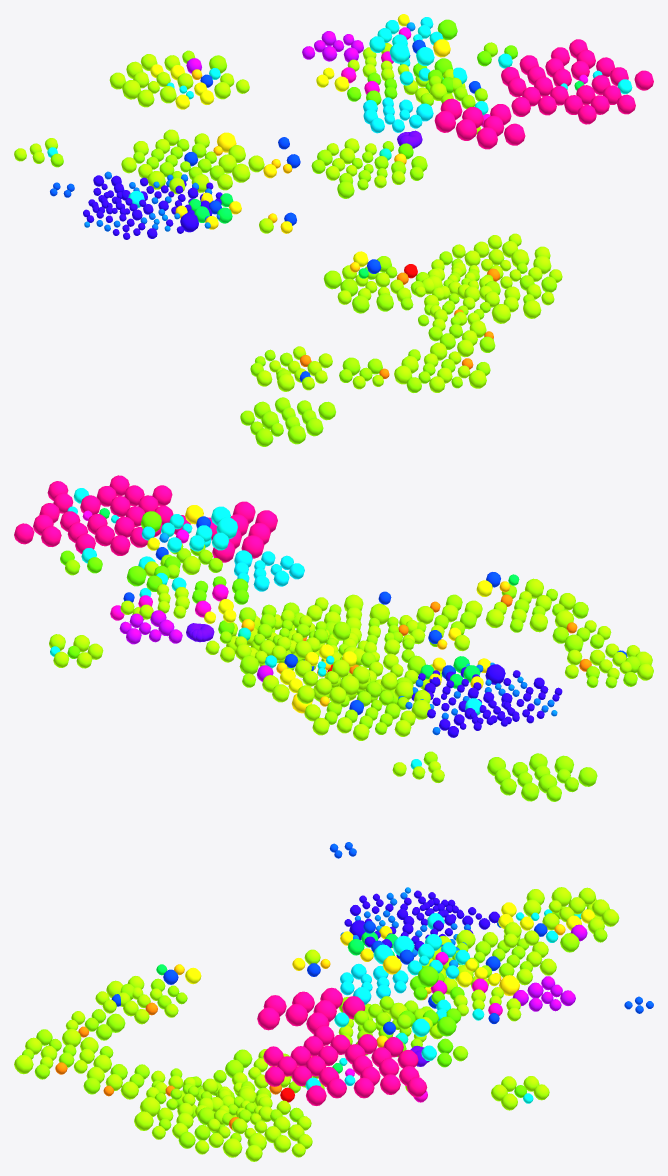
Rendered from task-94b228a99-layout.gltf.
3 renders of one model, top to bottom at view 1: azimuth 30°, elevation 25°; view 2: azimuth 150°, elevation 25°; view 3: azimuth 270°, elevation 25°, orthographic. The views are drawn at different scales.
Parts seen in each view (by area): view 1: normal_c_files, normal_h_files, normal_po_files, normal_xz_files, normal_no_ext_files, normal_txt_files, normal_sh_files, normal_m4_files, normal_1_files, normal_cmake_files, normal_am_files, normal_in_files (+1 smaller); view 2: normal_c_files, normal_h_files, normal_po_files, normal_xz_files, normal_no_ext_files, normal_txt_files, normal_sh_files, normal_m4_files, normal_cmake_files, normal_am_files, normal_1_files, normal_in_files (+4 smaller); view 3: normal_c_files, normal_h_files, normal_po_files, normal_no_ext_files, normal_xz_files, normal_txt_files, normal_sh_files, normal_m4_files, normal_am_files, normal_cmake_files, normal_1_files, normal_inc_files (+4 smaller).
Boxes of the visible parts, <box> form: normal_c_files: <box>14,43,562,392</box>; normal_h_files: <box>50,42,556,446</box>; normal_po_files: <box>434,39,653,149</box>; normal_xz_files: <box>83,175,222,239</box>; normal_no_ext_files: <box>47,20,632,207</box>; normal_txt_files: <box>347,19,517,159</box>; normal_sh_files: <box>150,14,409,267</box>; normal_m4_files: <box>363,97,433,133</box>; normal_1_files: <box>175,39,450,233</box>; normal_cmake_files: <box>186,31,363,73</box>; normal_am_files: <box>184,39,480,381</box>; normal_in_files: <box>188,81,583,278</box>; normal_c_files: <box>49,556,653,782</box>; normal_h_files: <box>65,543,640,801</box>; normal_po_files: <box>14,475,277,562</box>; normal_xz_files: <box>411,664,562,737</box>; normal_no_ext_files: <box>50,488,481,769</box>; normal_txt_files: <box>60,511,248,658</box>; normal_sh_files: <box>147,537,492,692</box>; normal_m4_files: <box>234,550,304,591</box>; normal_cmake_files: <box>119,610,273,681</box>; normal_am_files: <box>123,516,627,714</box>; normal_1_files: <box>185,505,490,713</box>; normal_in_files: <box>99,508,519,688</box>; normal_c_files: <box>14,887,619,1161</box>; normal_h_files: <box>22,907,607,1148</box>; normal_po_files: <box>257,987,427,1105</box>; normal_no_ext_files: <box>305,909,582,1103</box>; normal_xz_files: <box>344,890,499,958</box>; normal_txt_files: <box>397,966,526,1097</box>; normal_sh_files: <box>185,902,594,987</box>; normal_m4_files: <box>340,963,408,1004</box>; normal_am_files: <box>111,920,547,1034</box>; normal_cmake_files: <box>512,924,587,1011</box>; normal_1_files: <box>292,926,519,995</box>; normal_inc_files: <box>55,1002,281,1130</box>.
Size of the model in its own units: 95.96 by 47.22 by 98.23.
